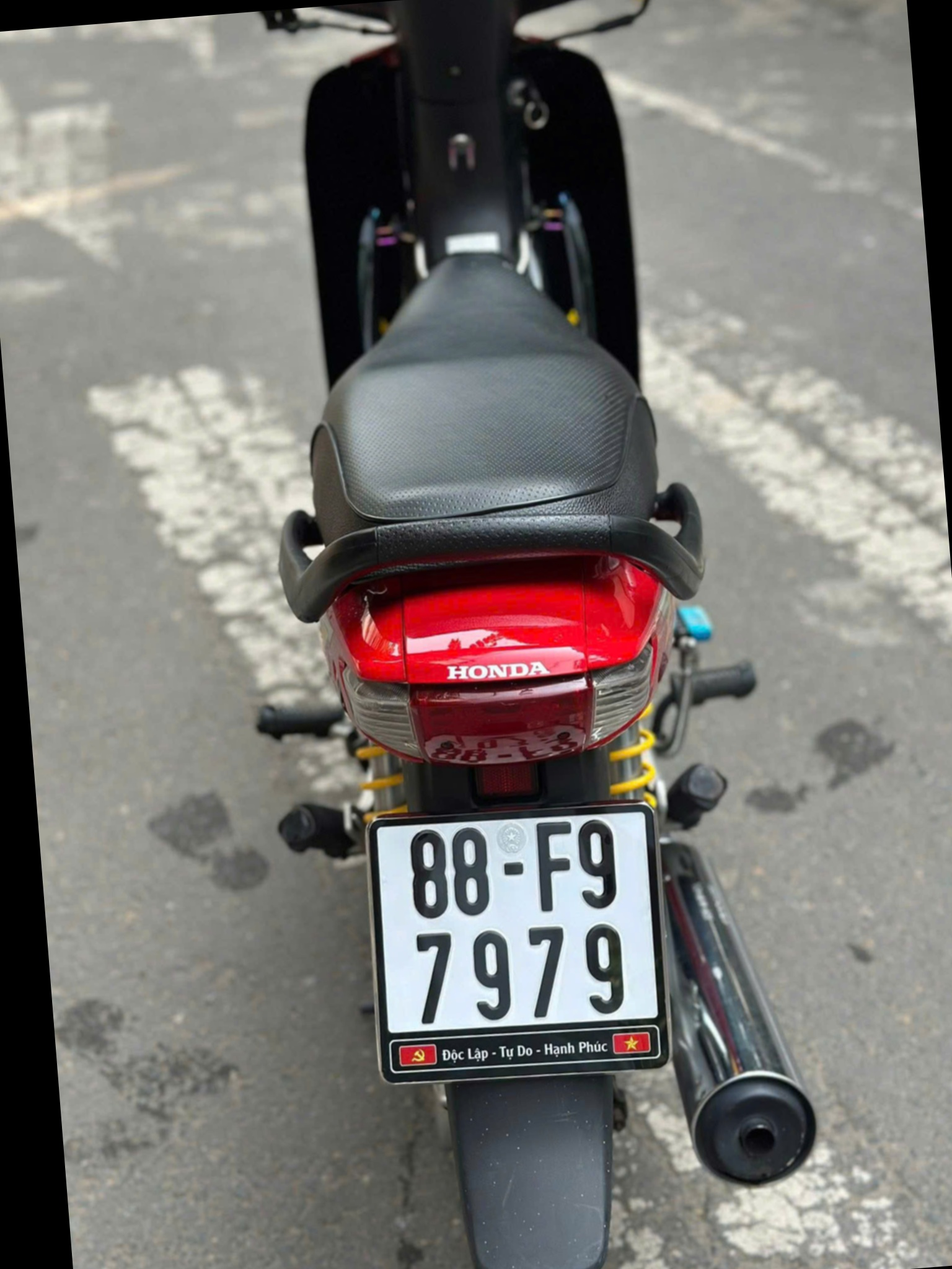Bien-so: (370, 803, 668, 1039)
